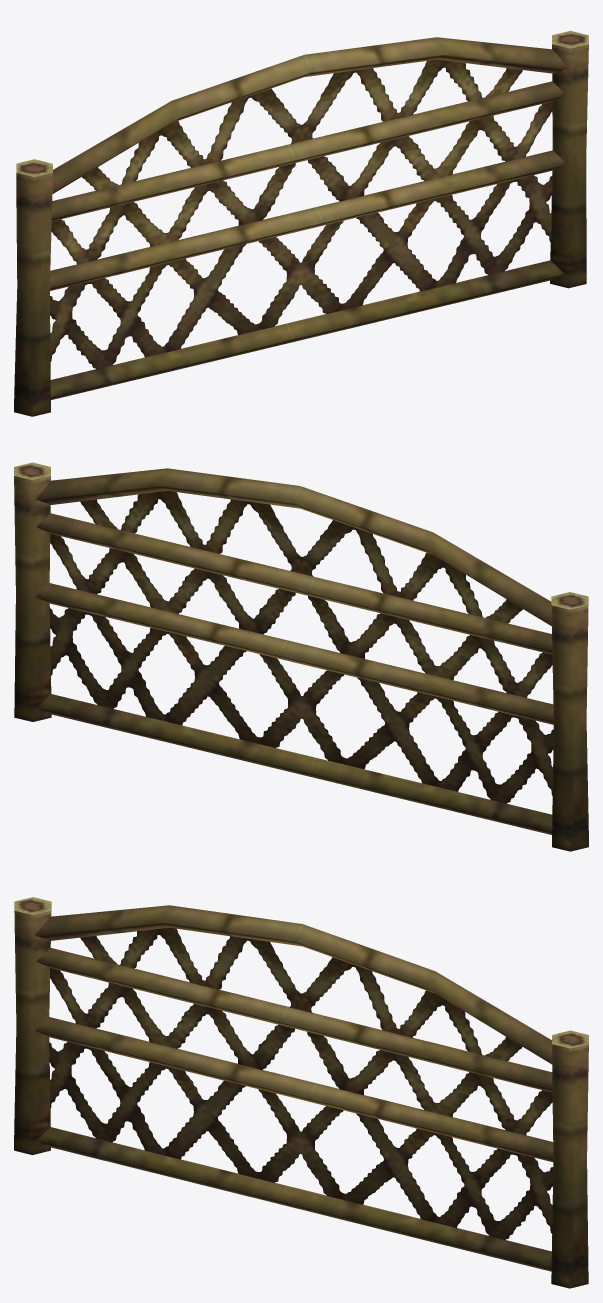
File: zhalan04_qt.FBX
3 views of the same model, one above another, from view 1: azimuth 30°, elevation 25°; view 2: azimuth 150°, elevation 25°; view 3: azimuth 330°, elevation 25° (orthographic).
Parts seen in each view (by area): view 1: Box01; view 2: Box01; view 3: Box01.
Part boxes in pixels (bbox=[...]): Box01: bbox=[14, 30, 588, 416]; Box01: bbox=[14, 462, 588, 851]; Box01: bbox=[14, 897, 588, 1288].
Bounding box in the file's own units: 136 × 65.54 × 8.05.
